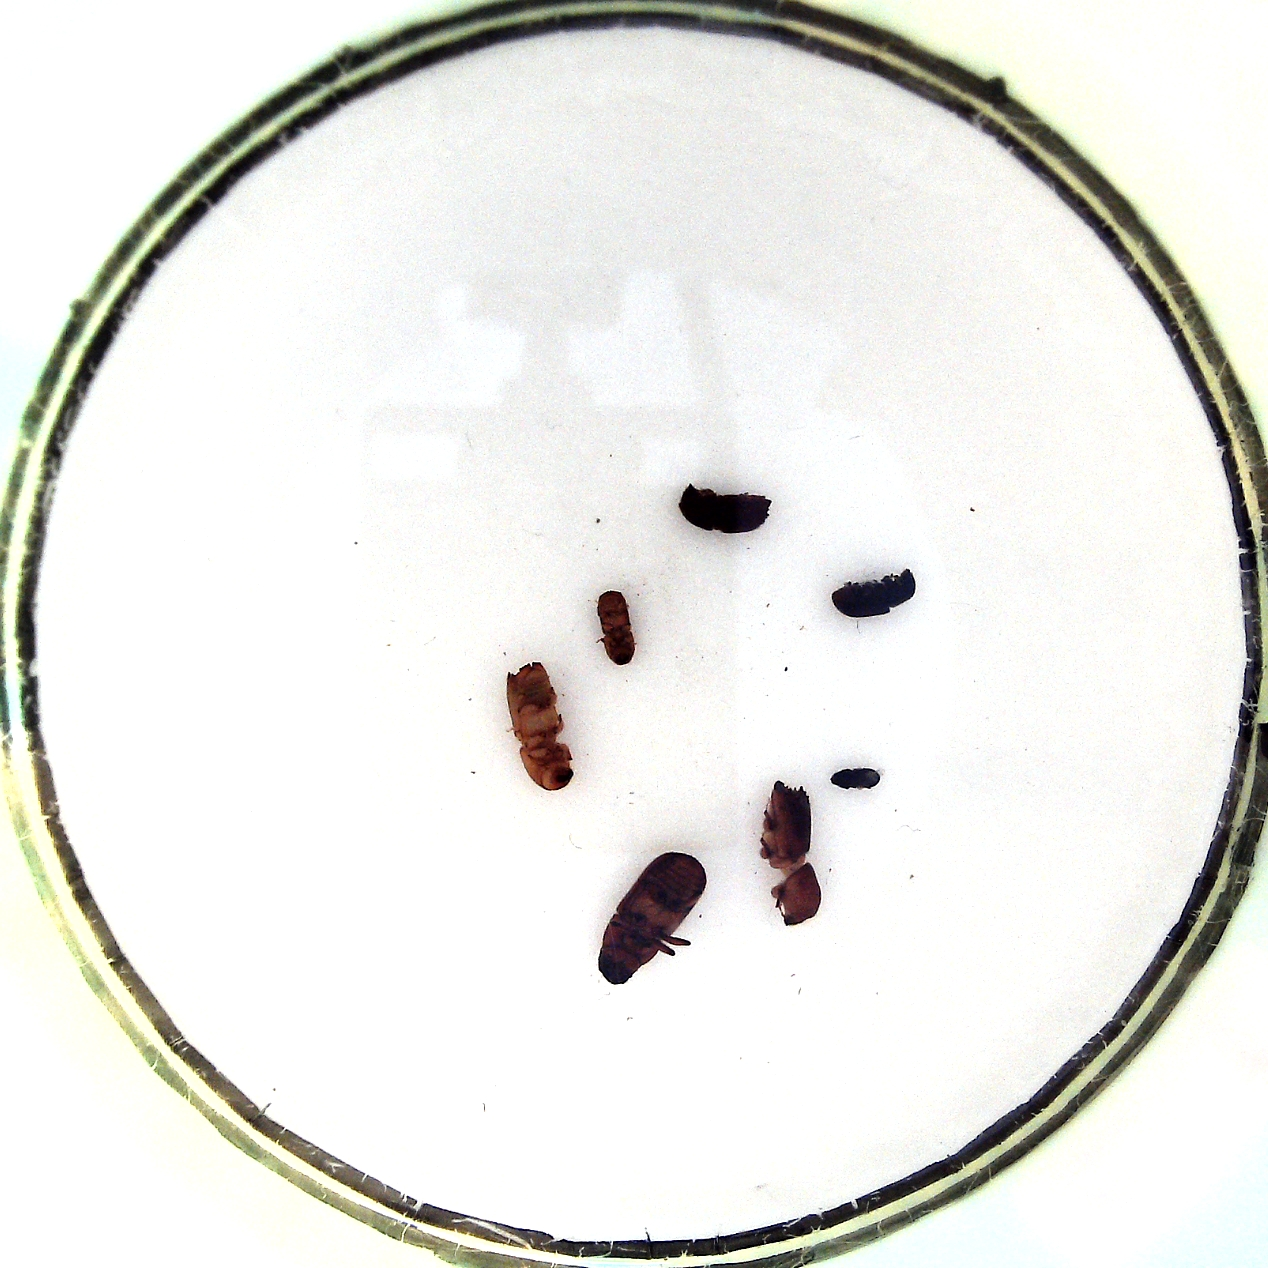Boerner: (754, 773, 823, 930), (502, 658, 579, 794)
Leconte: (590, 848, 713, 984)
Linnaeus: (673, 480, 777, 542)
acuminatus: (592, 583, 641, 667)
armandi: (823, 565, 923, 624)
coleoptera: (826, 763, 885, 794)
